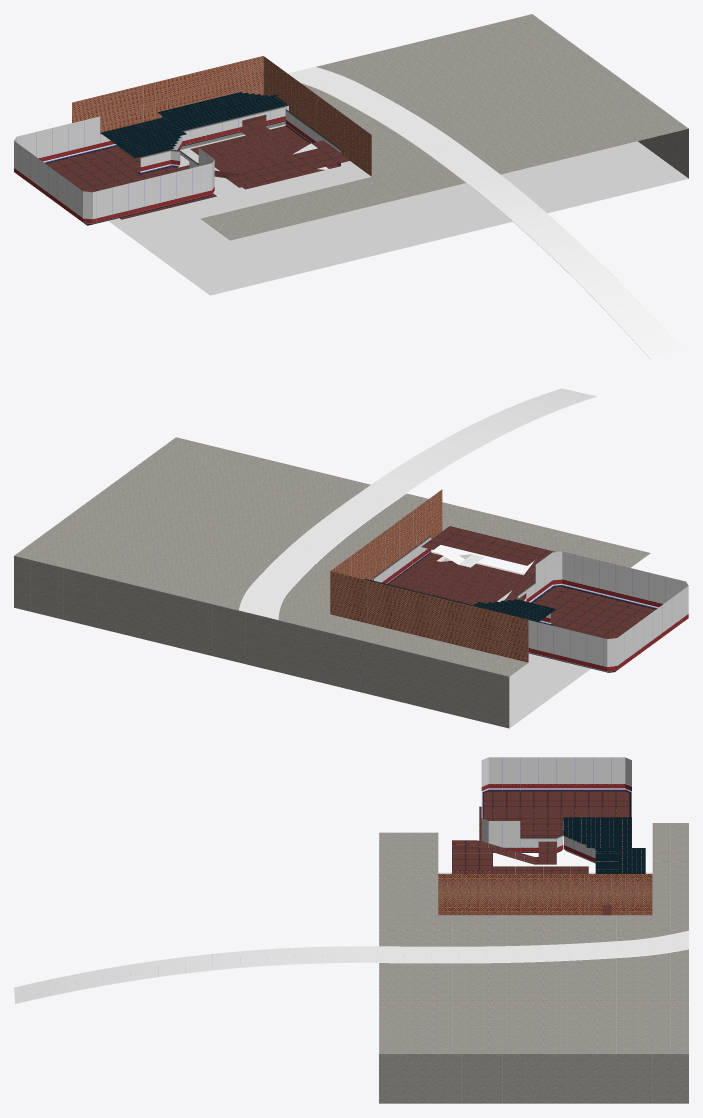
3 renders of one model, top to bottom at view 1: azimuth 30°, elevation 25°; view 2: azimuth 150°, elevation 25°; view 3: azimuth 270°, elevation 25°, orthographic. The views are drawn at different scales.
Visible parts, largest first — view 1: level_Cube.001; view 2: level_Cube.001; view 3: level_Cube.001.
Part boxes in pixels (<box>): level_Cube.001: <box>14,14,688,359</box>; level_Cube.001: <box>14,388,688,728</box>; level_Cube.001: <box>14,757,688,1103</box>.
Size of the model in its own units: 138 by 22 by 148.
Materials: 1 (1 with a texture image).
